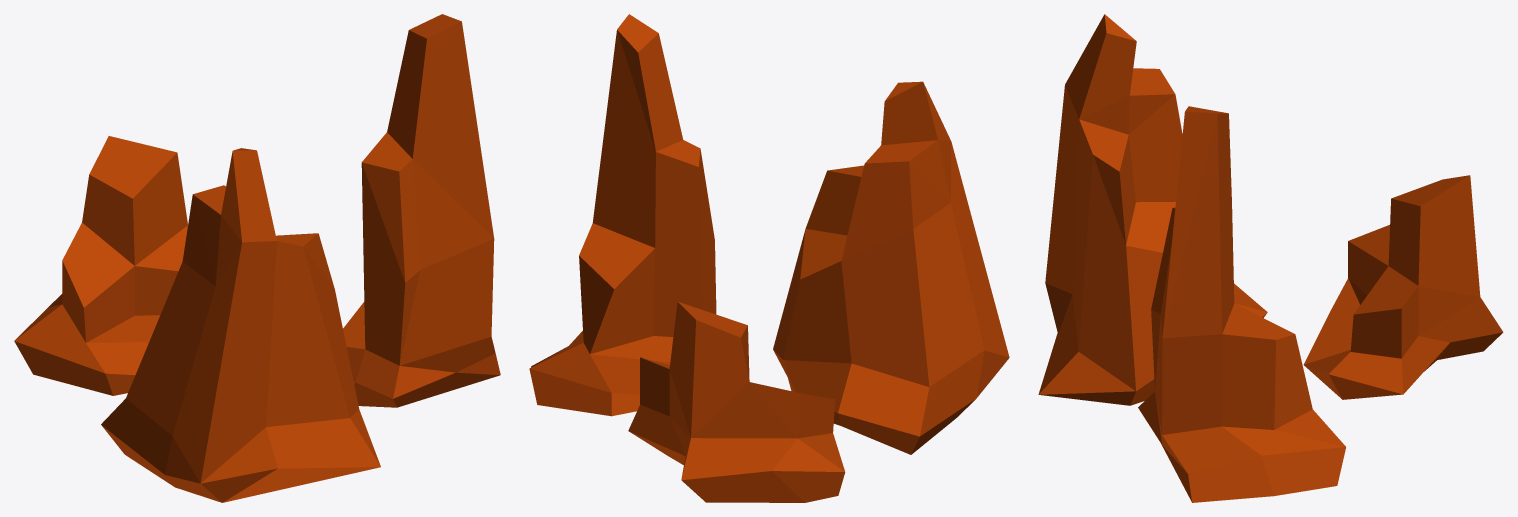
Rendered from Break2.fbx.
3 views of the same model, side by side, from view 1: azimuth 30°, elevation 25°; view 2: azimuth 150°, elevation 25°; view 3: azimuth 270°, elevation 25° (orthographic). The views are drawn at different scales.
Parts seen in each view (by area): view 1: Cube.006; view 2: Cube.006; view 3: Cube.006.
Boxes of the visible parts, left/top/right/bottom form: Cube.006: left=14, top=14, right=500, bottom=502; Cube.006: left=529, top=14, right=1009, bottom=502; Cube.006: left=1038, top=14, right=1503, bottom=502.
Size of the model in its own units: 31.18 by 27.89 by 31.39.
